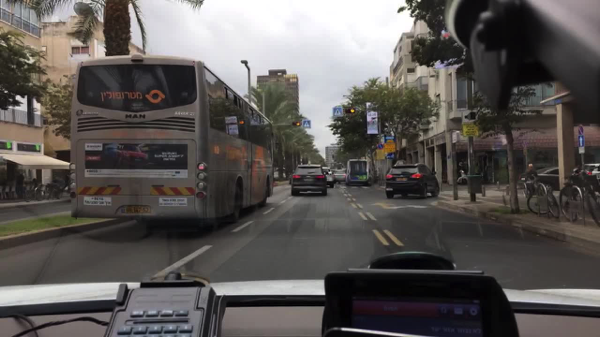bike: (562, 183, 599, 229), (525, 187, 561, 220), (32, 183, 51, 201), (42, 183, 62, 200), (24, 187, 42, 202)
bus: (71, 58, 279, 233)
car: (386, 163, 440, 199), (289, 165, 327, 196), (520, 165, 560, 190), (571, 162, 598, 185), (322, 168, 335, 189), (332, 169, 346, 182), (273, 167, 287, 179), (334, 171, 346, 181), (330, 169, 337, 173)
person: (568, 167, 579, 200), (524, 159, 537, 186), (15, 172, 25, 199), (458, 159, 467, 176), (32, 177, 37, 190)
traffic light: (345, 108, 355, 113), (292, 121, 301, 126), (239, 120, 245, 125)
traffic sign: (368, 111, 379, 133), (463, 124, 478, 136), (383, 143, 395, 152), (384, 136, 395, 142), (377, 150, 384, 159), (578, 125, 583, 135), (377, 144, 382, 150), (578, 147, 584, 152)
